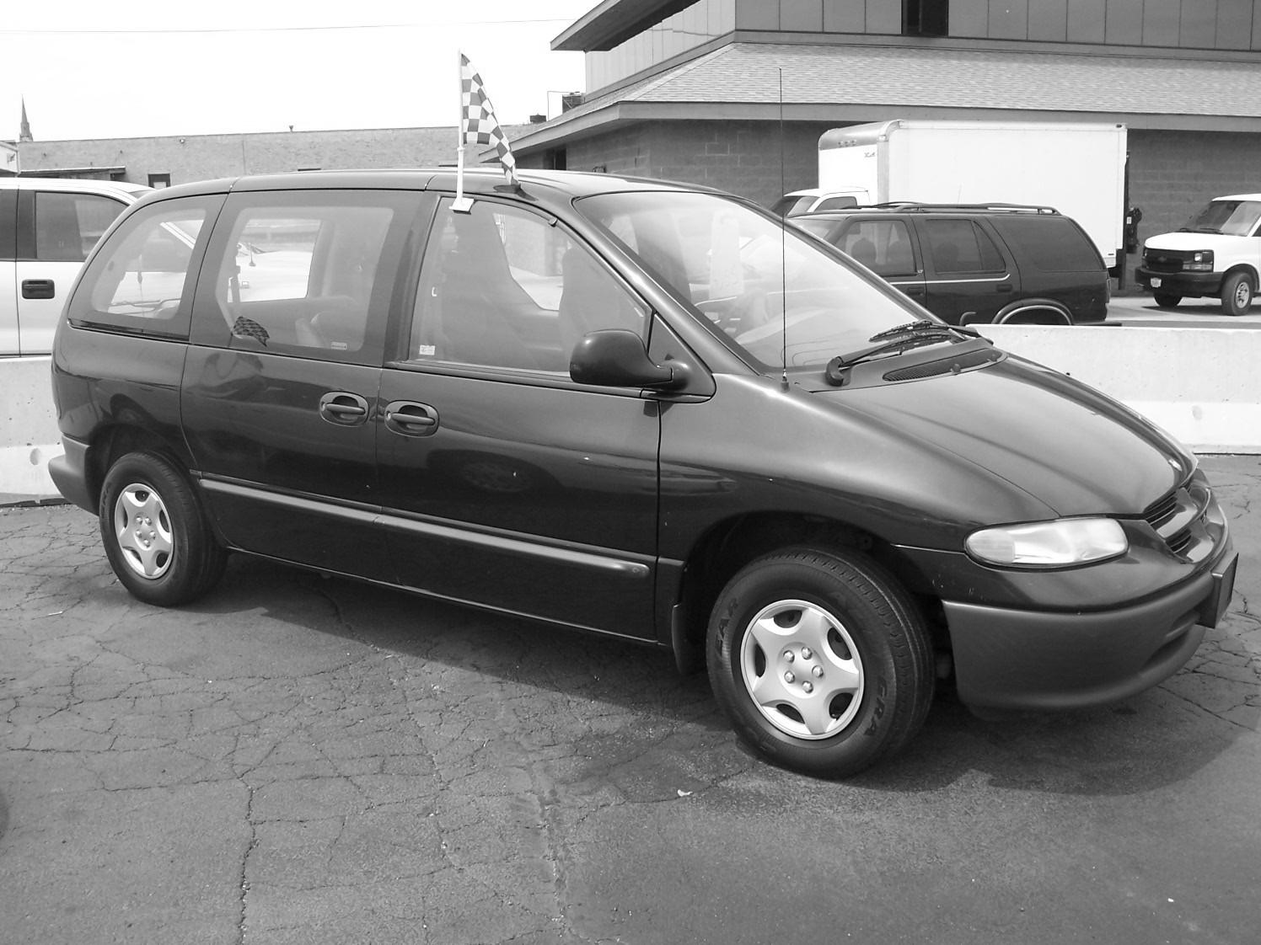car: (46, 159, 1242, 776)
